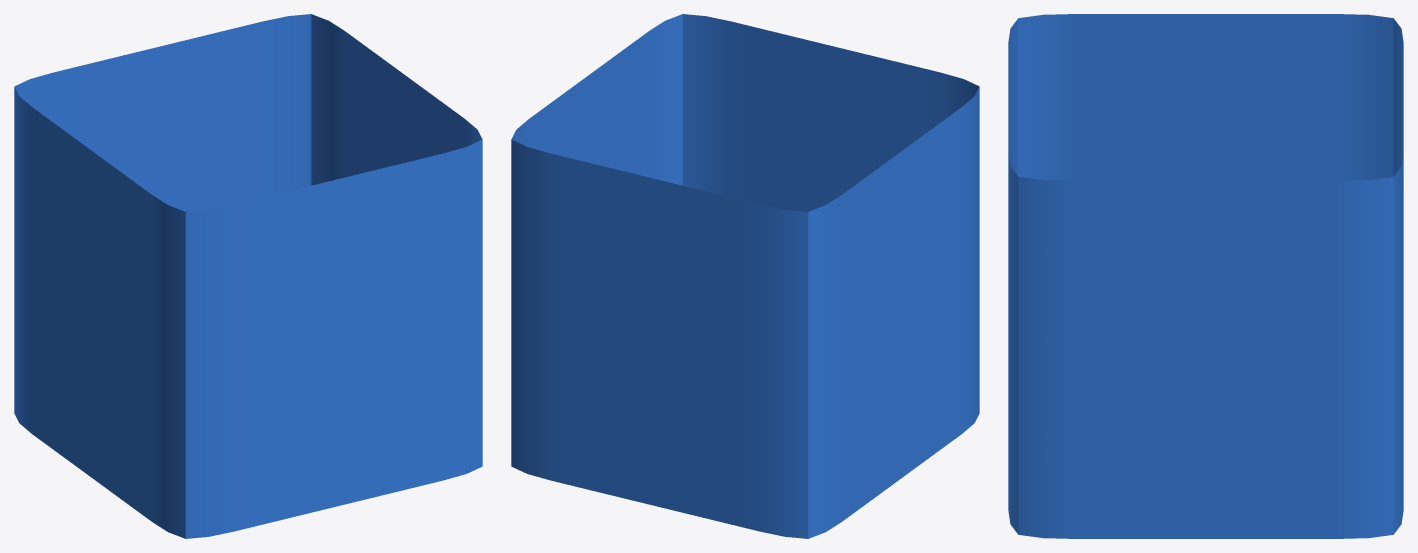
The model's file is RiseFloor_Prefab.fbx.
The picture shows the model from 3 angles, left to right: view 1: azimuth 30°, elevation 25°; view 2: azimuth 150°, elevation 25°; view 3: azimuth 270°, elevation 25°; orthographic projection. The views are drawn at different scales.
Visible parts, largest first — view 1: RiseFloor; view 2: RiseFloor; view 3: RiseFloor.
Part boxes in pixels (x1,y1,x2,y2): RiseFloor: (14,14,482,538); RiseFloor: (511,14,979,538); RiseFloor: (1008,14,1403,538).
Bounding box in the file's own units: 10 × 10 × 10.
